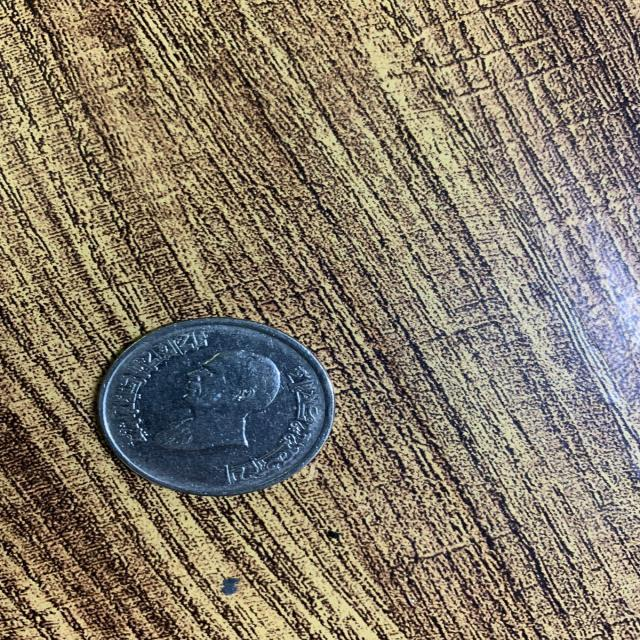10-coins: (93, 316, 334, 498)
